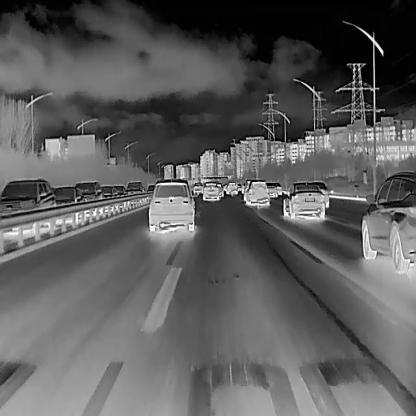car: (360, 171, 416, 273), (148, 178, 196, 232), (0, 177, 56, 220), (282, 180, 325, 218), (51, 185, 85, 210), (242, 180, 270, 205), (75, 181, 103, 203), (314, 180, 329, 207), (202, 182, 219, 201), (125, 180, 144, 197), (264, 181, 277, 197), (101, 184, 114, 200), (113, 184, 126, 197), (191, 181, 202, 194), (226, 181, 236, 195), (146, 184, 156, 194), (274, 182, 281, 193)
